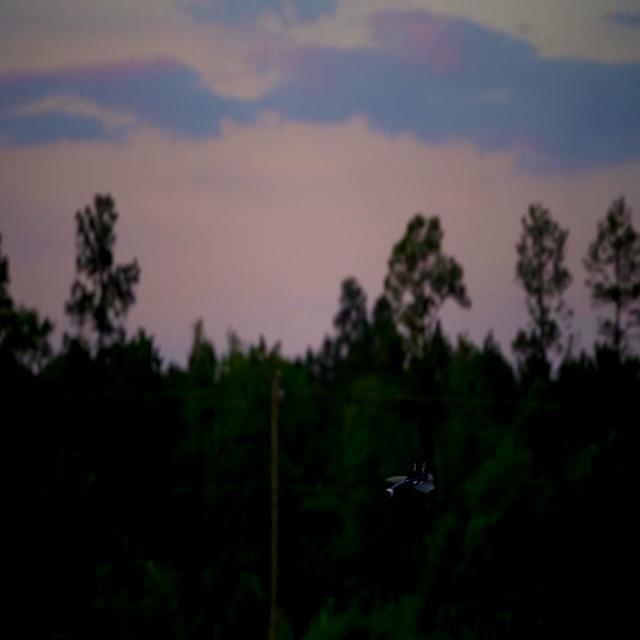iha: (380, 462, 436, 499)
